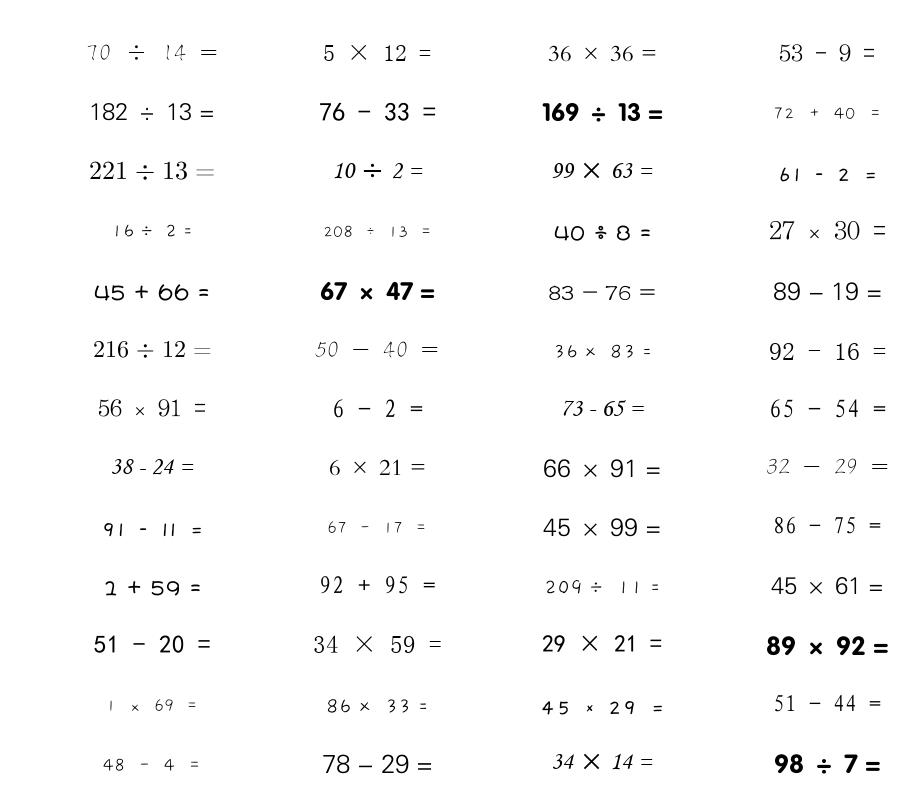MQ: (766, 636, 889, 656), (542, 102, 663, 122), (89, 161, 215, 180), (769, 220, 886, 240), (313, 635, 442, 653), (320, 281, 435, 301), (89, 103, 215, 121), (86, 44, 218, 61), (543, 459, 661, 478), (543, 518, 661, 537), (319, 102, 436, 121), (769, 399, 886, 418), (94, 635, 211, 654), (322, 754, 433, 774), (771, 576, 884, 595), (93, 340, 212, 358), (774, 754, 881, 774), (315, 341, 439, 358), (319, 576, 436, 594), (773, 282, 882, 301), (542, 635, 662, 652), (769, 343, 886, 360), (94, 284, 210, 301), (766, 458, 889, 474), (98, 399, 206, 417), (773, 516, 881, 534), (773, 694, 881, 712), (544, 579, 660, 595), (548, 45, 657, 62), (323, 44, 431, 61), (540, 701, 665, 715), (551, 162, 653, 179), (551, 753, 653, 770), (332, 399, 423, 418), (779, 44, 875, 62), (329, 459, 426, 476), (548, 285, 656, 300), (103, 580, 201, 596), (554, 225, 651, 241), (332, 162, 423, 179), (326, 699, 428, 714), (777, 167, 878, 182), (553, 344, 652, 359), (101, 523, 204, 537), (773, 107, 882, 120), (323, 225, 432, 238), (103, 758, 201, 772), (560, 400, 644, 416), (110, 459, 194, 475), (327, 521, 427, 534), (106, 699, 198, 712), (111, 224, 193, 238)
